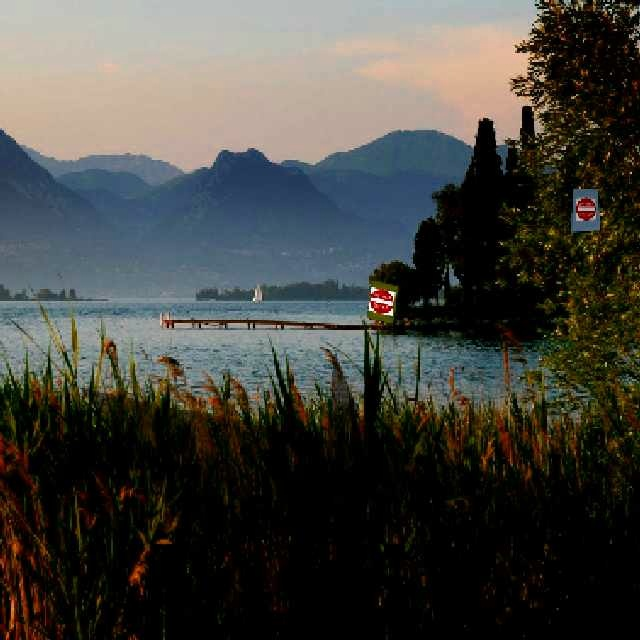DO_NOT_ENTER: (366, 285, 395, 315), (572, 195, 597, 220)
